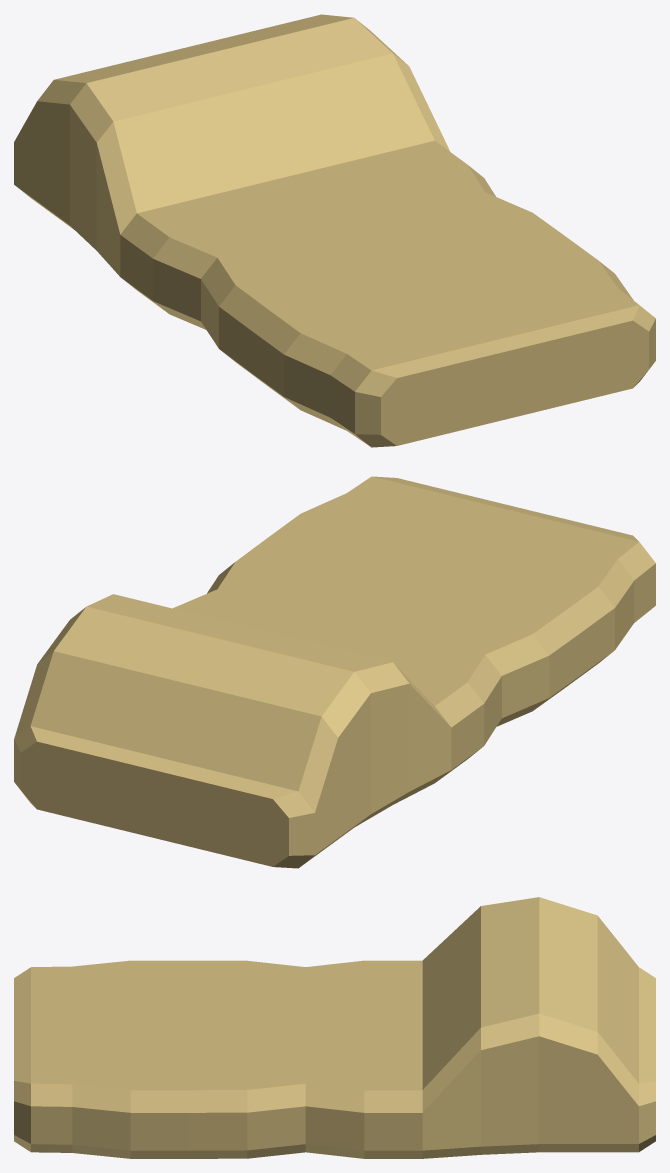
The model's file is tallow_heavy_a.glb.
The picture shows the model from 3 angles, top to bottom: view 1: azimuth 30°, elevation 25°; view 2: azimuth 150°, elevation 25°; view 3: azimuth 270°, elevation 25°; orthographic projection. The views are drawn at different scales.
Parts seen in each view (by area): view 1: tallow_heavy_a; view 2: tallow_heavy_a; view 3: tallow_heavy_a.
Part boxes in pixels (x1,y1,x2,y2): tallow_heavy_a: [14, 14, 655, 447]; tallow_heavy_a: [14, 476, 655, 868]; tallow_heavy_a: [14, 897, 655, 1158].
Bounding box in the file's own units: 4.3 × 1.93 × 8.1.
